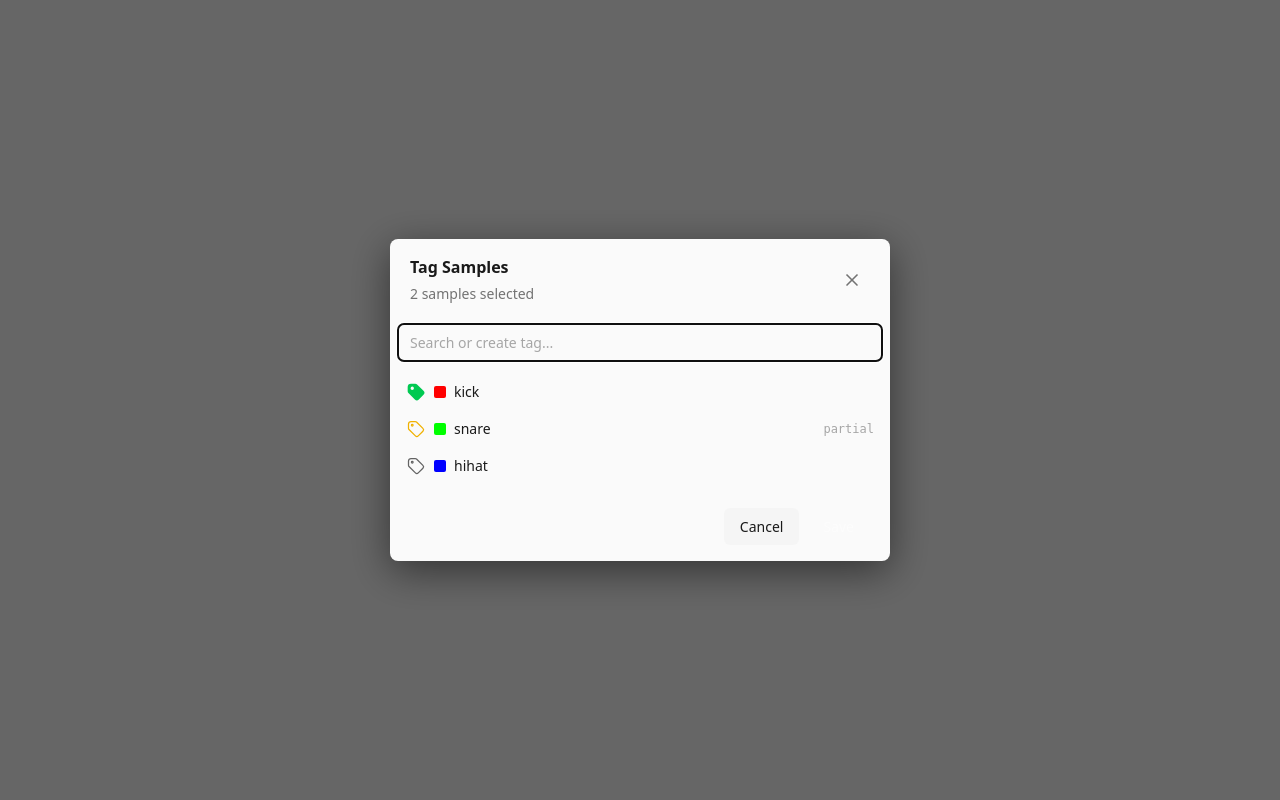
TagPopup › Tag creation › marks new tag as checked after creation
Type "newtag" into the field with placeholder "Search or create tag...". click: (640, 342)
box: [398, 324, 882, 361]
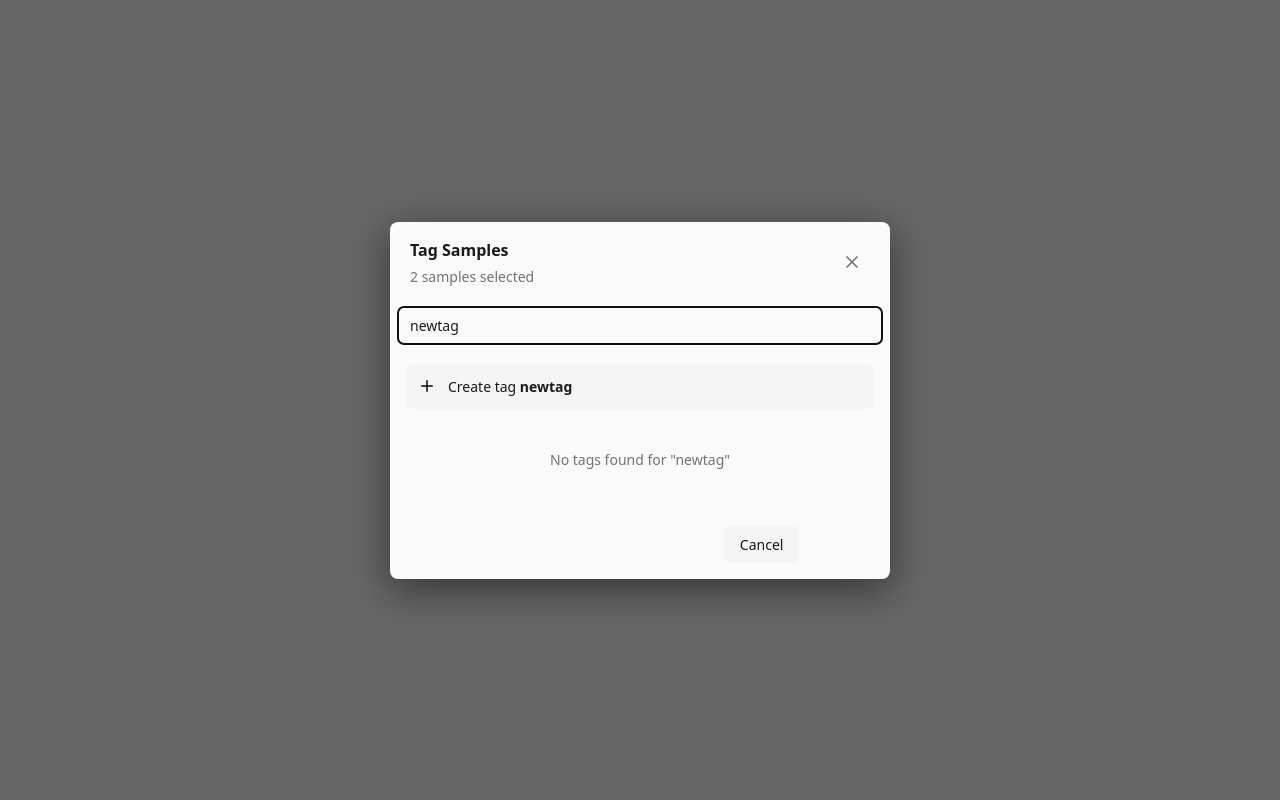
Click the text "Create tag". click: (640, 386)
box: [406, 364, 874, 408]
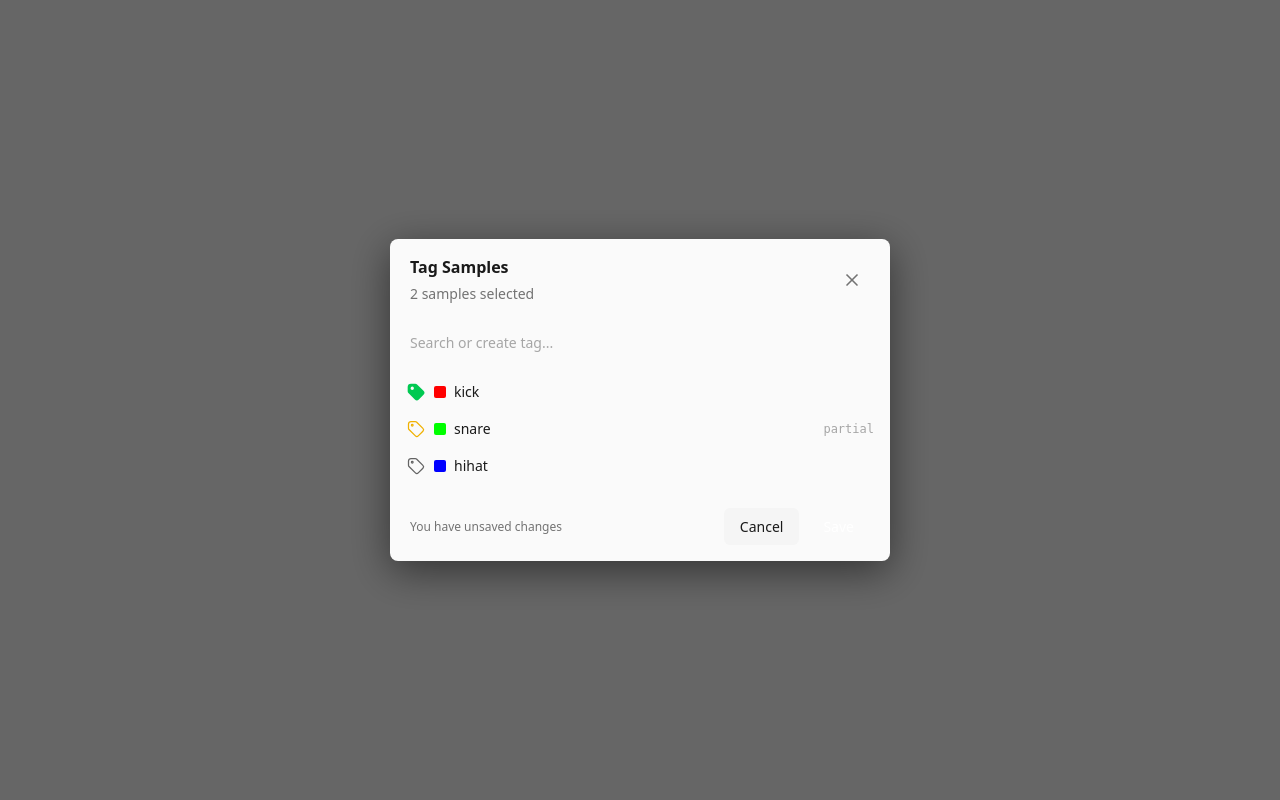
Expected: the text "You have unsaved changes" is shown, [410, 518, 562, 536]
